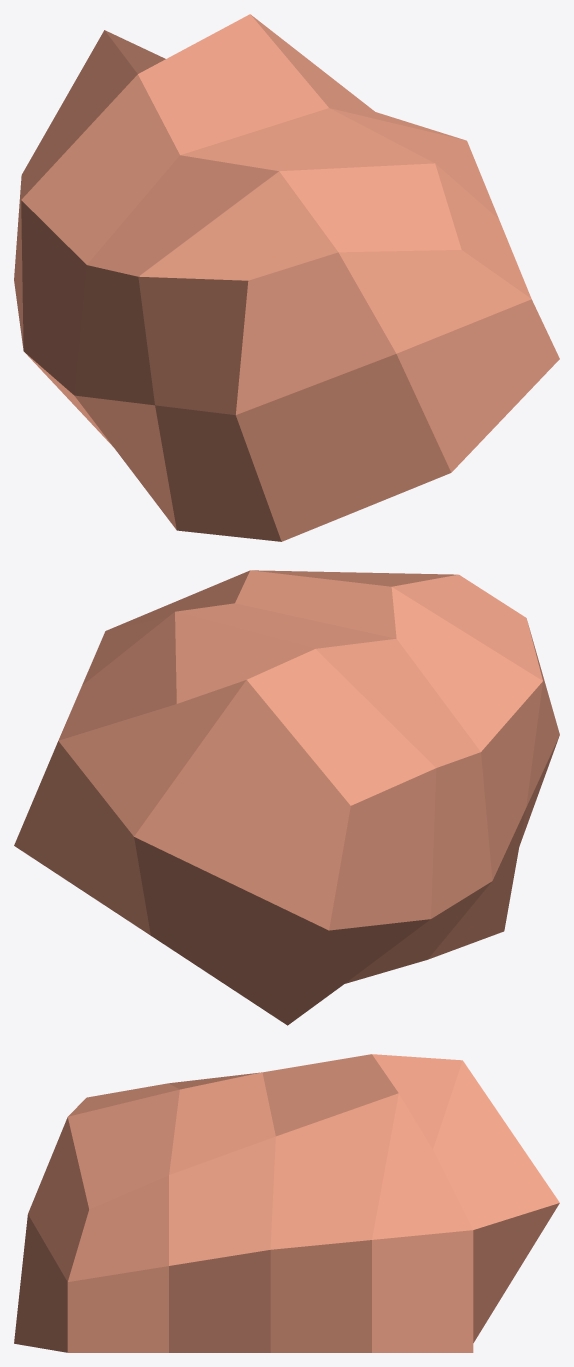
Rendered from Ore.fbx.
3 views of the same model, one above another, from view 1: azimuth 30°, elevation 25°; view 2: azimuth 150°, elevation 25°; view 3: azimuth 270°, elevation 25° (orthographic). The views are drawn at different scales.
Parts seen in each view (by area): view 1: Ore; view 2: Ore; view 3: Ore.
Part boxes in pixels (<box>): Ore: <box>14,14,559,541</box>; Ore: <box>14,570,559,1025</box>; Ore: <box>14,1054,559,1352</box>.
Size of the model in its own units: 723 by 652 by 990.
